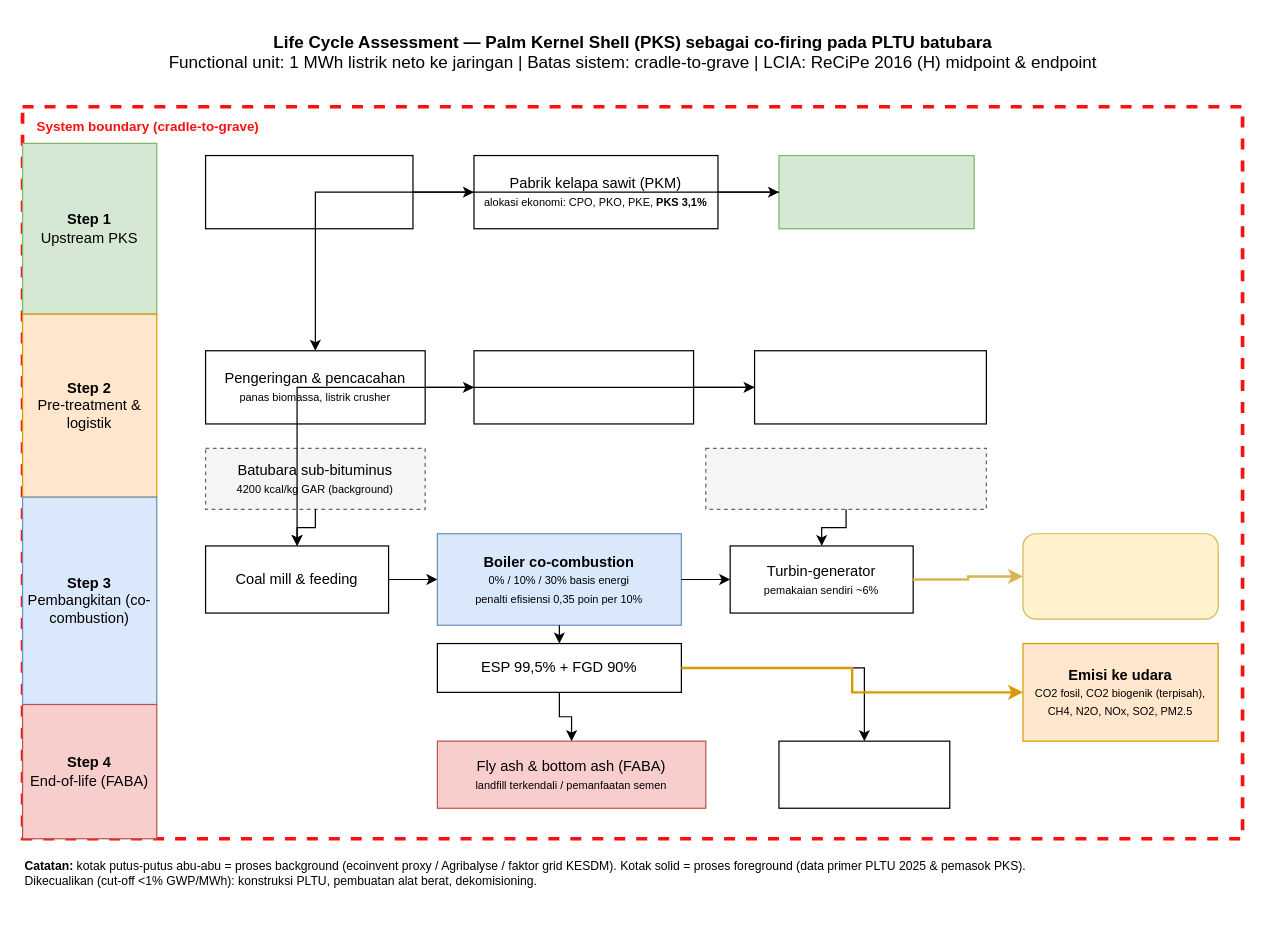
This 1265x932 diagram has some shape labels left out. The shapes that lost their labels are listed below. From the top down, each one's box as (x1, y1, x2, y2) in pixels, then its label:
(204, 154, 413, 229): Kebun kelapa sawit pupuk, diesel, okupasi lahan
(778, 154, 974, 229): PKS (residu) MC 12%, LHV 16,2 MJ/kg
(473, 350, 694, 424): Transport truk 100 km + tongkang 200 km
(753, 350, 986, 424): Stockpile & handling PLTU susut massa, CH4 degradasi
(705, 447, 986, 509): Listrik grid Jamali, limestone, air proses background ecoinvent proxy
(1022, 533, 1218, 619): Functional unit 1 MWh listrik neto ke jaringan
(778, 740, 950, 808): Gipsum FGD
